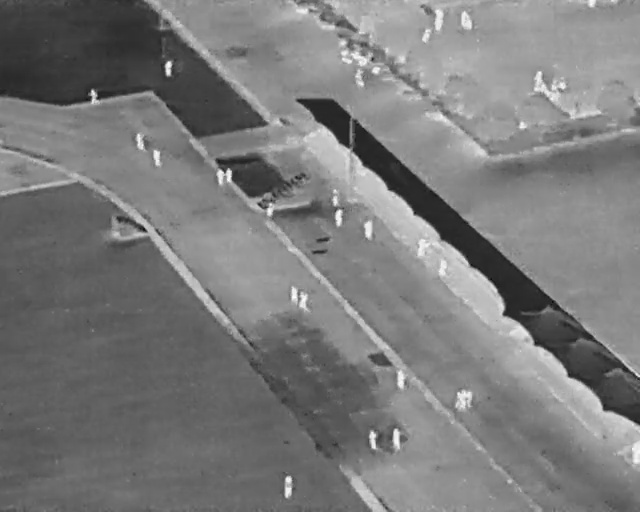DontCare: (341, 49, 382, 87), (364, 220, 373, 240), (334, 209, 343, 227)
Person: (414, 238, 431, 261), (454, 390, 468, 414), (434, 9, 444, 31), (330, 187, 341, 207), (632, 439, 640, 465), (284, 475, 293, 498), (88, 88, 100, 104), (534, 70, 544, 89), (467, 386, 474, 412), (368, 430, 377, 450), (439, 259, 448, 278), (215, 168, 225, 185), (422, 27, 432, 44), (392, 428, 400, 449), (397, 369, 405, 389), (135, 133, 144, 150), (299, 292, 308, 309), (165, 60, 173, 78), (290, 286, 298, 304), (153, 150, 161, 167), (266, 202, 274, 217), (460, 10, 467, 27), (226, 168, 232, 183), (465, 18, 472, 30), (587, 0, 596, 8)
